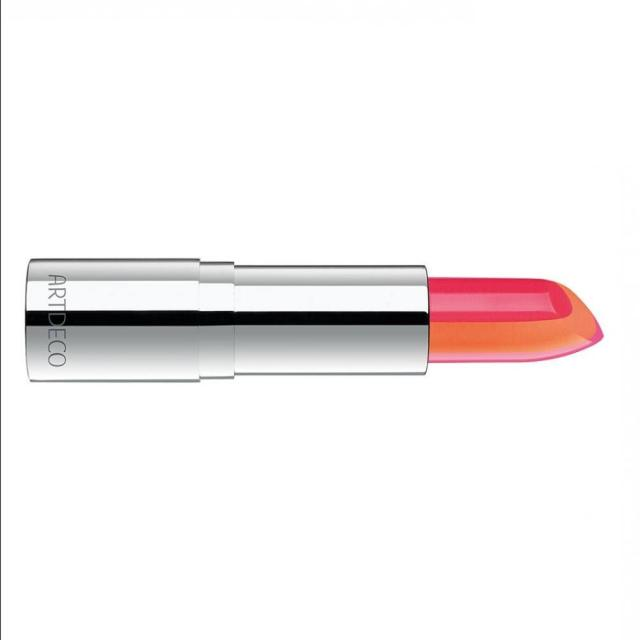lipstick: (31, 222, 604, 394)
